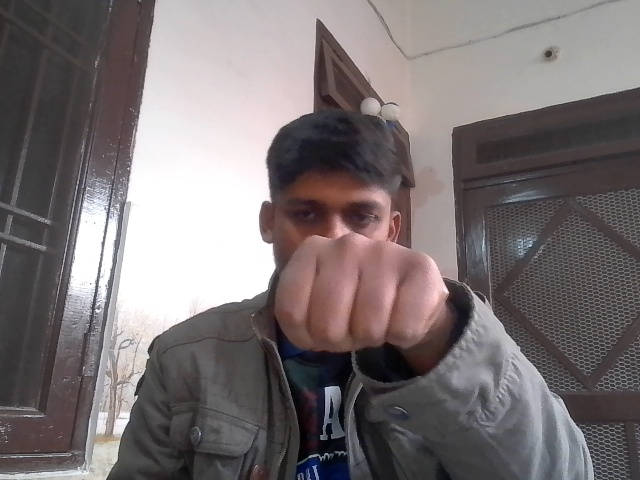Yes: (264, 222, 452, 367)
